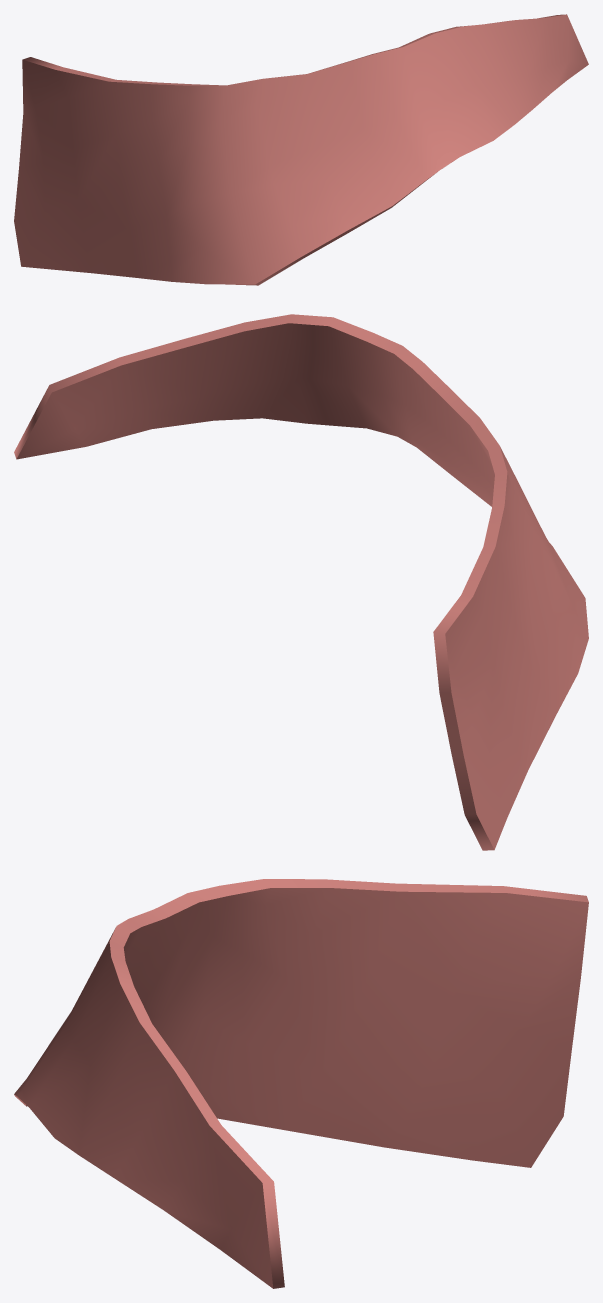
3 renders of one model, top to bottom at view 1: azimuth 30°, elevation 25°; view 2: azimuth 150°, elevation 25°; view 3: azimuth 270°, elevation 25°, orthographic. The views are drawn at different scales.
Visible parts, largest first — view 1: ZA_784ea5bbf056704b; view 2: ZA_784ea5bbf056704b; view 3: ZA_784ea5bbf056704b.
Part boxes in pixels (left/top/right/bottom): ZA_784ea5bbf056704b: left=14, top=14, right=588, bottom=285; ZA_784ea5bbf056704b: left=14, top=314, right=588, bottom=850; ZA_784ea5bbf056704b: left=14, top=879, right=588, bottom=1288.
Bounding box in the file's own units: 0.0529 × 0.0284 × 0.0368.
